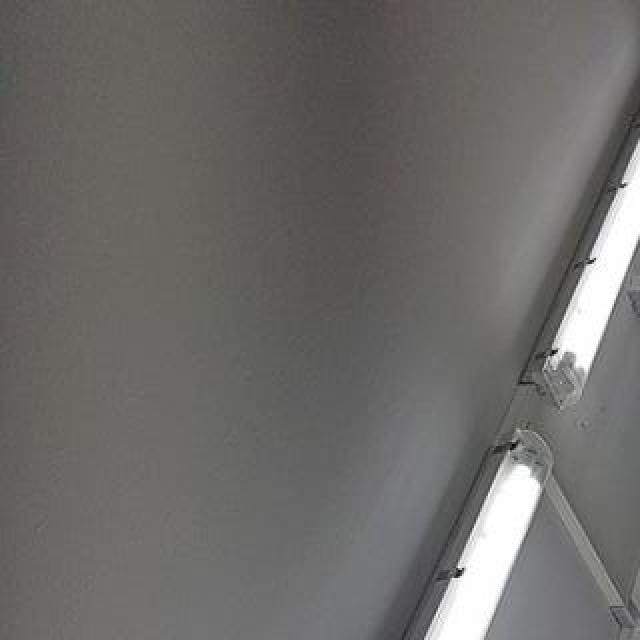fluorescent tube: (126, 412, 564, 640), (480, 42, 640, 440), (630, 0, 640, 70), (634, 568, 640, 640)
